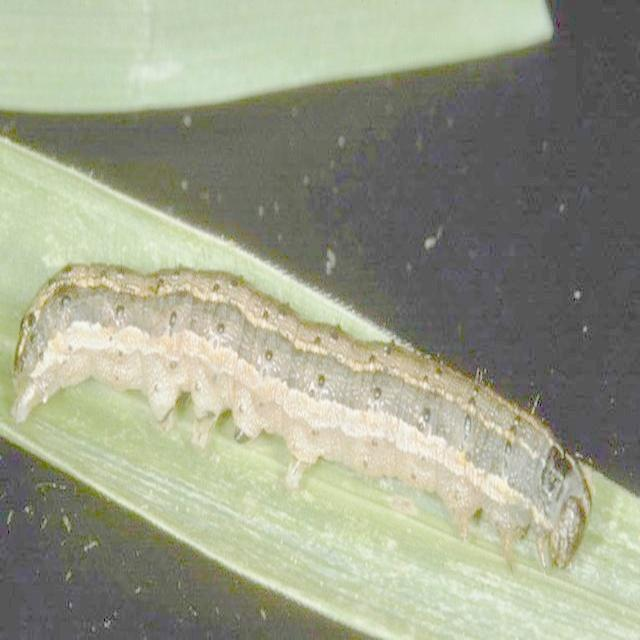gusano_cogollero: (0, 258, 600, 574)
